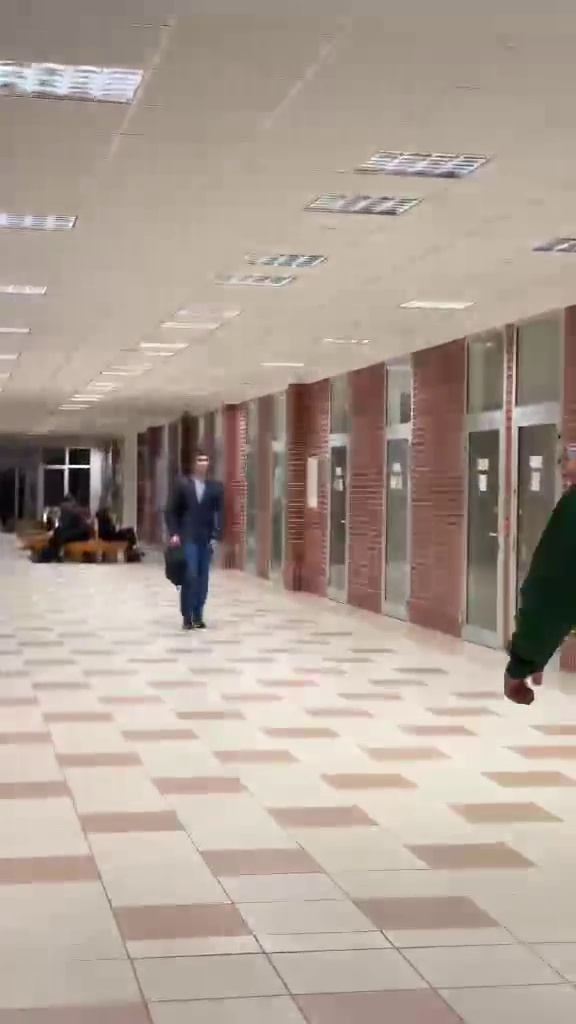no vest: (162, 453, 241, 626)
